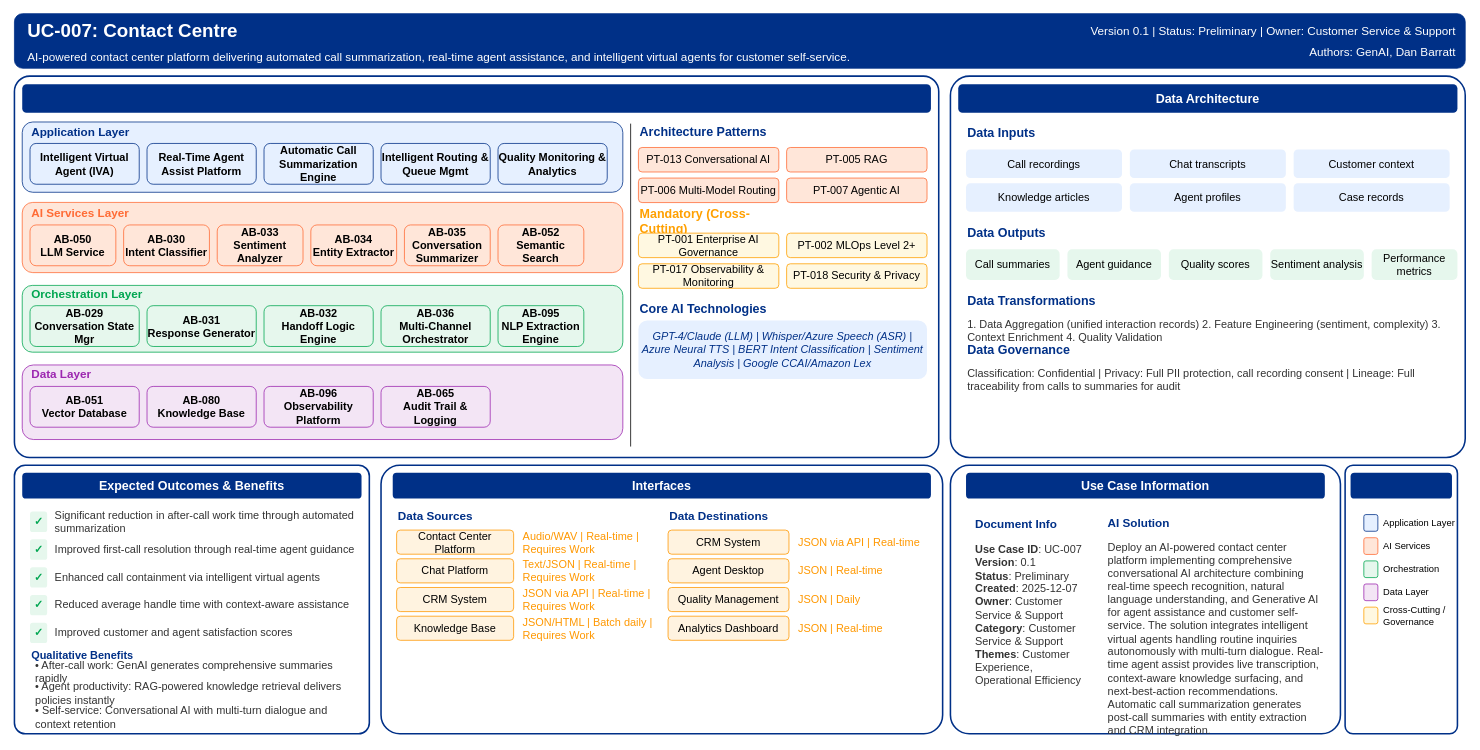
Image size: 1480x750. Some labels were removed from this diagram. Here are the shapes that lost their labels. From the top down, the centre of each, then its label:
At [476,98]: "Solution".
At [1401,485]: "Legend".
